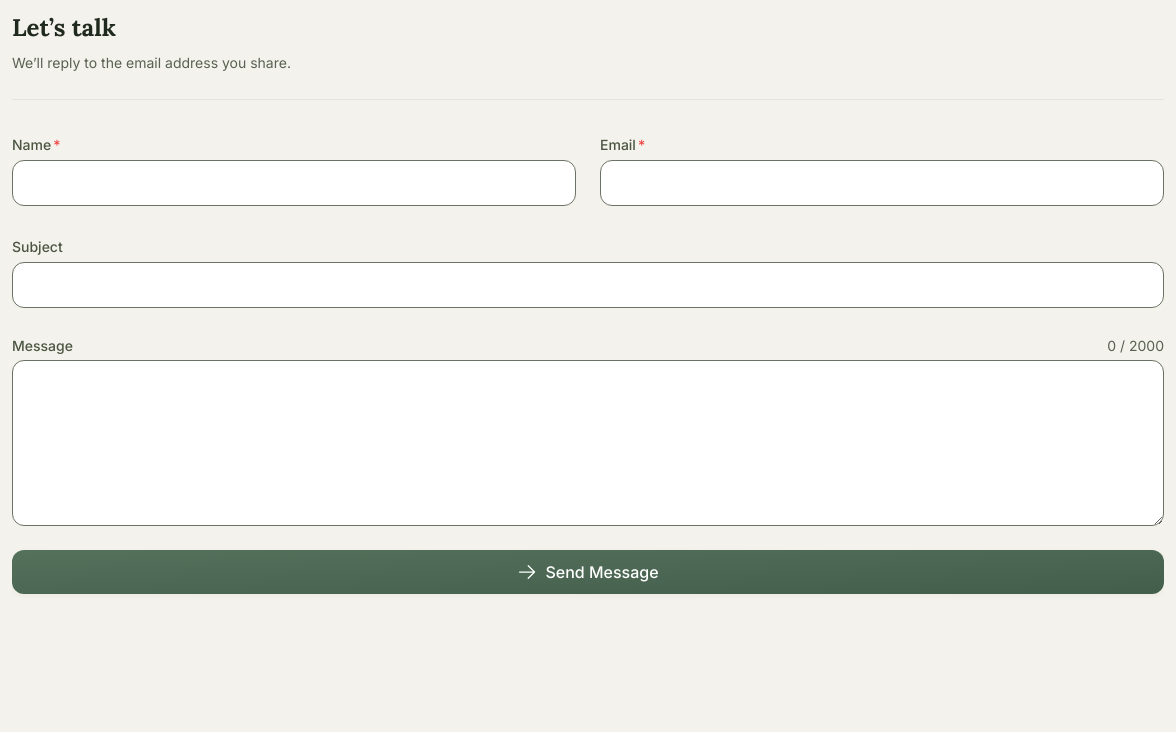
Test: ContactForm.vue › shows a live character counter for the message
Type "Hello" into the text box with id "contact-message". click: (588, 443)
box: x1=12 y1=360 x2=1164 y2=526
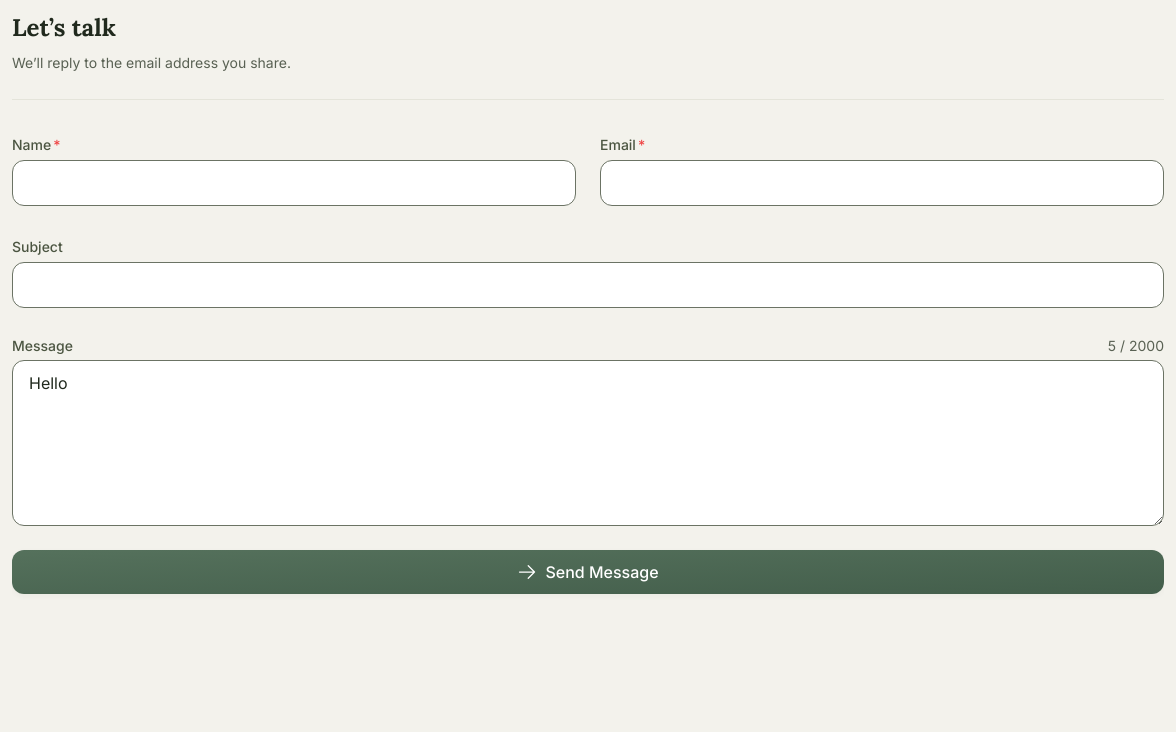
Result: the text "5 / 2000" is shown at x1=1108 y1=336 x2=1164 y2=356
